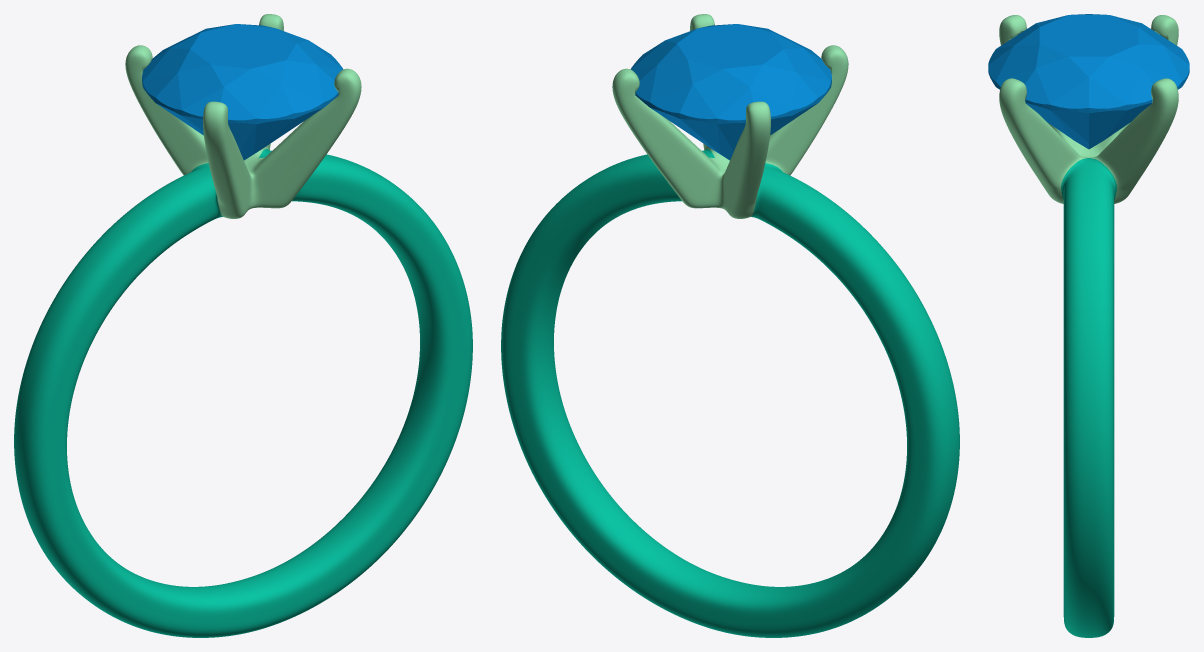
The model's file is BE101_RD_200ct_RENDER.glb.
3 views of the same model, side by side, from view 1: azimuth 30°, elevation 25°; view 2: azimuth 150°, elevation 25°; view 3: azimuth 270°, elevation 25° (orthographic).
Visible parts, largest first — view 1: Metal 01, CS_Diamond_Round, Metal 02; view 2: Metal 01, CS_Diamond_Round, Metal 02; view 3: Metal 01, CS_Diamond_Round, Metal 02.
Part boxes in pixels (left/top/right/bottom): Metal 01: left=14, top=149, right=472, bottom=637; CS_Diamond_Round: left=142, top=24, right=343, bottom=160; Metal 02: left=125, top=14, right=361, bottom=218; Metal 01: left=501, top=149, right=959, bottom=637; CS_Diamond_Round: left=630, top=24, right=831, bottom=160; Metal 02: left=612, top=14, right=848, bottom=218; Metal 01: left=1061, top=158, right=1116, bottom=637; CS_Diamond_Round: left=988, top=14, right=1189, bottom=149; Metal 02: left=999, top=15, right=1178, bottom=203.
Size of the model in its own units: 20.38 by 25.31 by 8.
